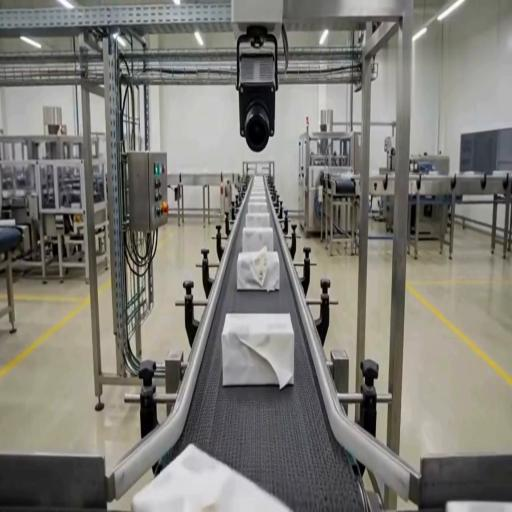defective: (134, 442, 300, 511), (221, 312, 294, 389), (236, 249, 281, 292)
good: (242, 226, 275, 255), (246, 212, 270, 229), (248, 181, 269, 199), (246, 198, 268, 213)
